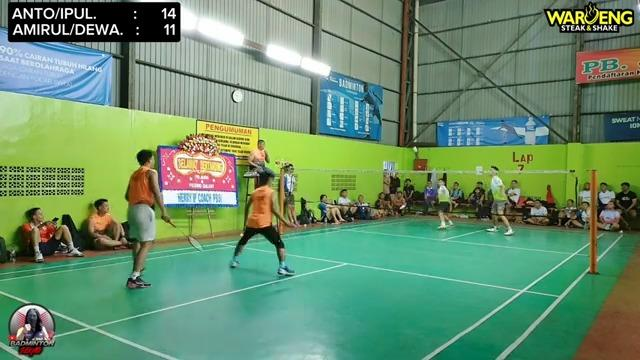Shuttlecock: (410, 145, 420, 155)
